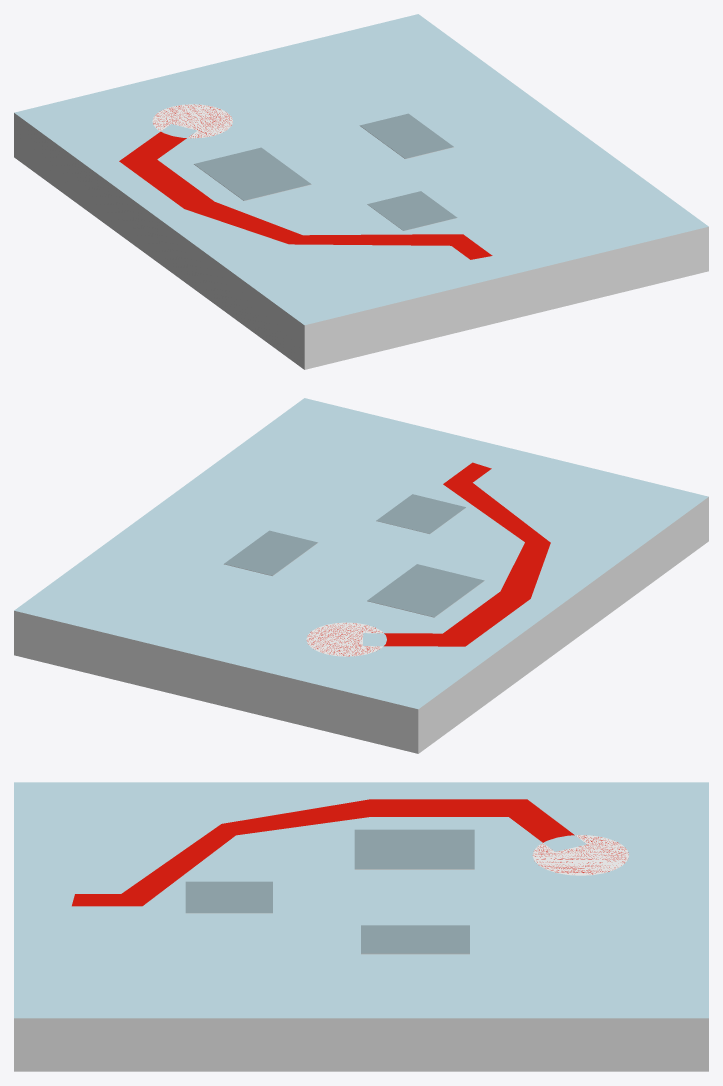
Rendered from red.dae.
3 views of the same model, one above another, from view 1: azimuth 30°, elevation 25°; view 2: azimuth 150°, elevation 25°; view 3: azimuth 270°, elevation 25° (orthographic). The views are drawn at different scales.
Parts seen in each view (by area): view 1: SketchUp (×7); view 2: SketchUp (×7); view 3: SketchUp (×7).
Boxes of the visible parts, left/top/right/bottom form: SketchUp (×7): left=14, top=14, right=708, bottom=369; SketchUp (×7): left=14, top=398, right=708, bottom=753; SketchUp (×7): left=14, top=782, right=708, bottom=1071.
Bounding box in the file's own units: 204 × 254 × 21.75.
